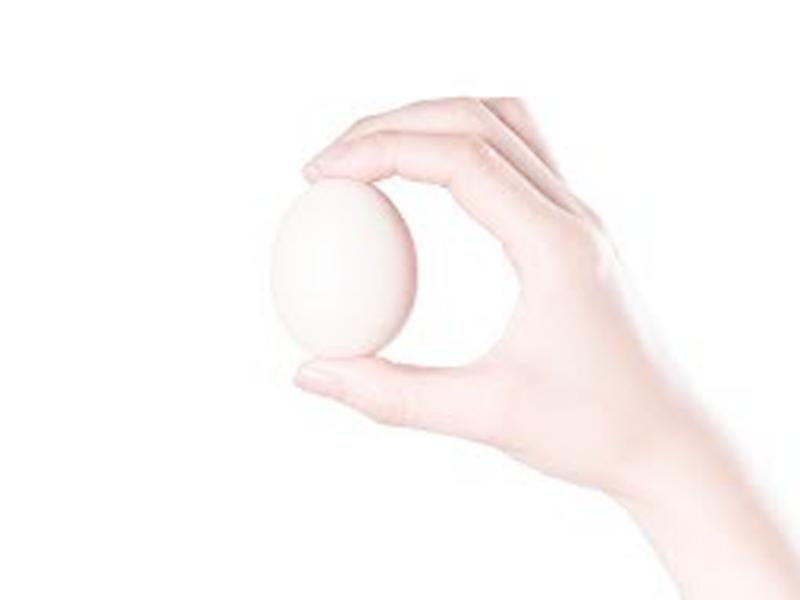Eggs: (270, 176, 417, 361)
